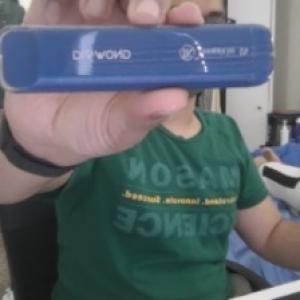Diamond-E-Ciggirate: (0, 14, 276, 98)
